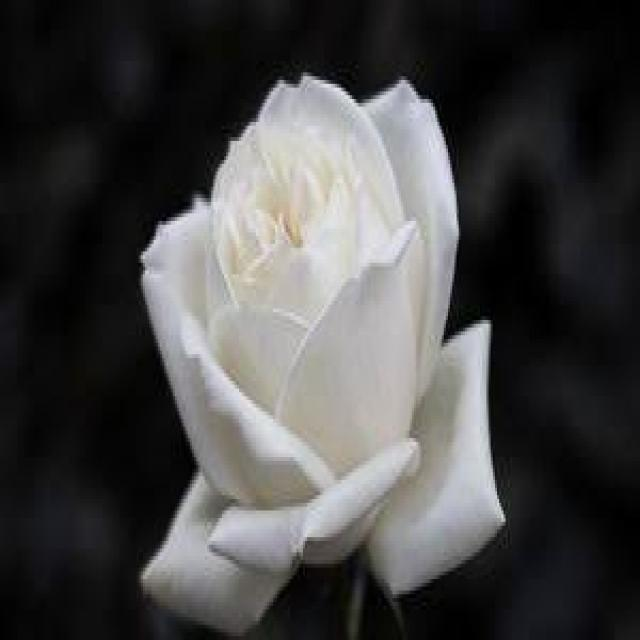rose: (114, 72, 497, 622)
